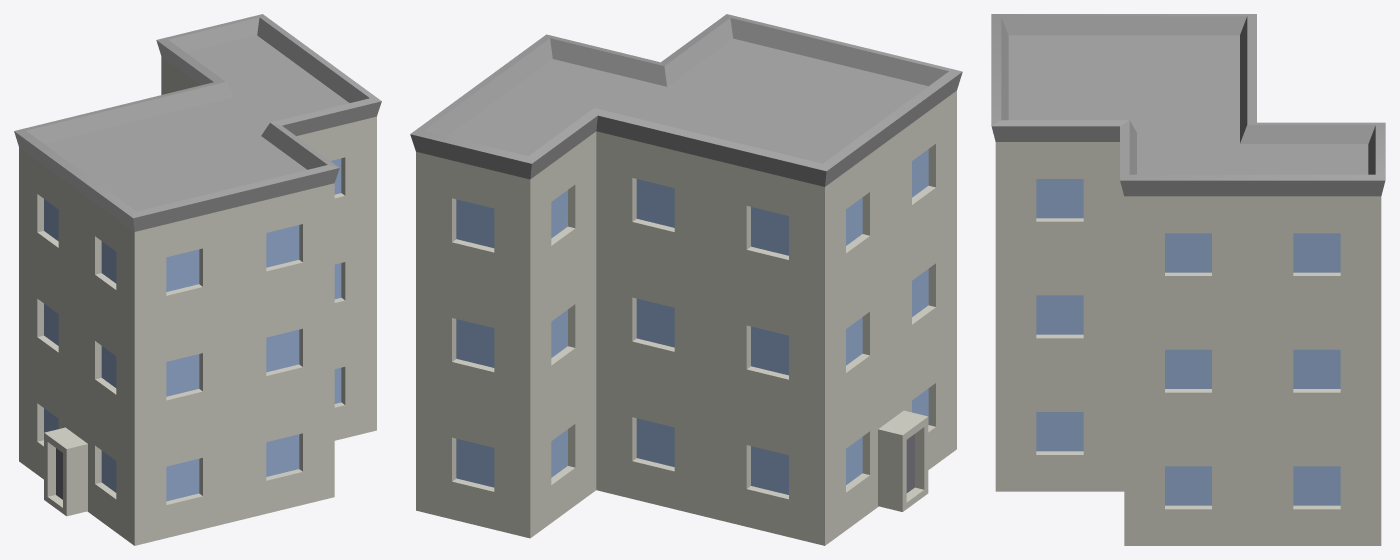
The model's file is Building2.fbx.
The picture shows the model from 3 angles, left to right: view 1: azimuth 30°, elevation 25°; view 2: azimuth 150°, elevation 25°; view 3: azimuth 270°, elevation 25°; orthographic projection. The views are drawn at different scales.
Visible parts, largest first — view 1: building2:Mesh1; view 2: building2:Mesh1; view 3: building2:Mesh1.
Part boxes in pixels (x1,y1,x2,y2): building2:Mesh1: (14,14,381,545); building2:Mesh1: (410,14,962,545); building2:Mesh1: (991,14,1385,545).
Bounding box in the file's own units: 32.47 × 31.68 × 30.65.
